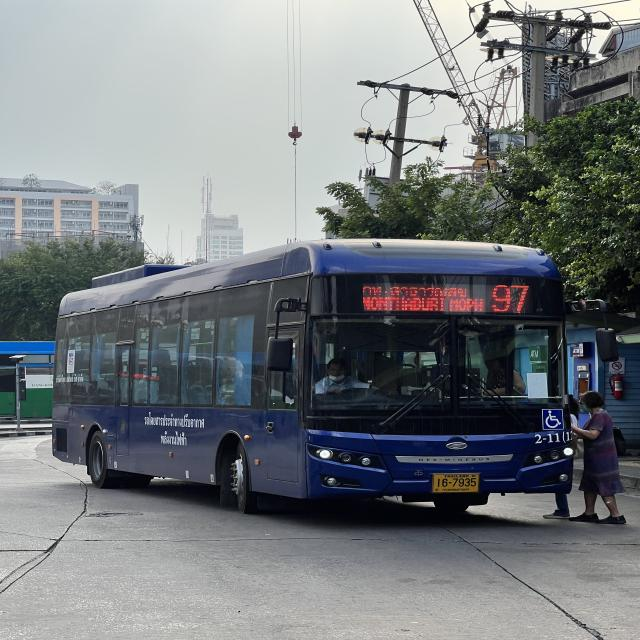Bus Line Number: (489, 281, 533, 316)
Bus Side Number: (532, 430, 574, 443)
Destination Sign: (356, 281, 488, 314)
TSB-Bus: (51, 238, 573, 514)
